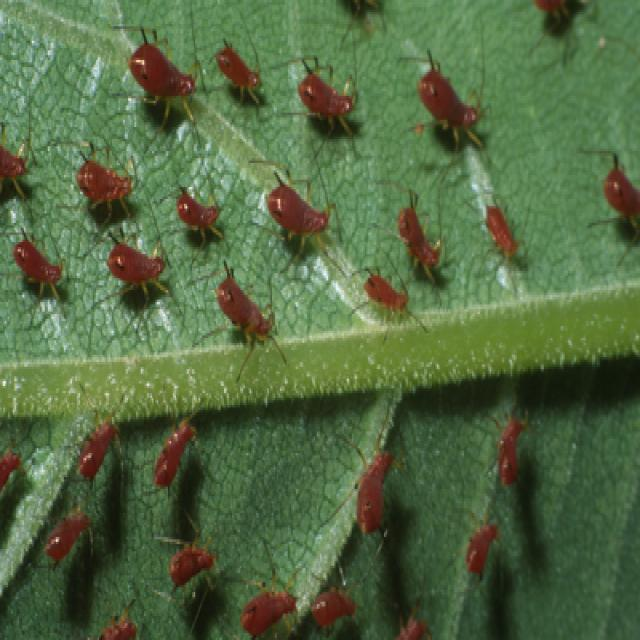Aphid-Grown-: (212, 263, 313, 379), (104, 231, 208, 335), (117, 18, 210, 128), (248, 152, 337, 266), (342, 431, 420, 559), (417, 60, 495, 153), (64, 135, 140, 220), (205, 31, 273, 120), (292, 66, 364, 136), (474, 198, 536, 276), (12, 233, 74, 297), (361, 270, 423, 331)
